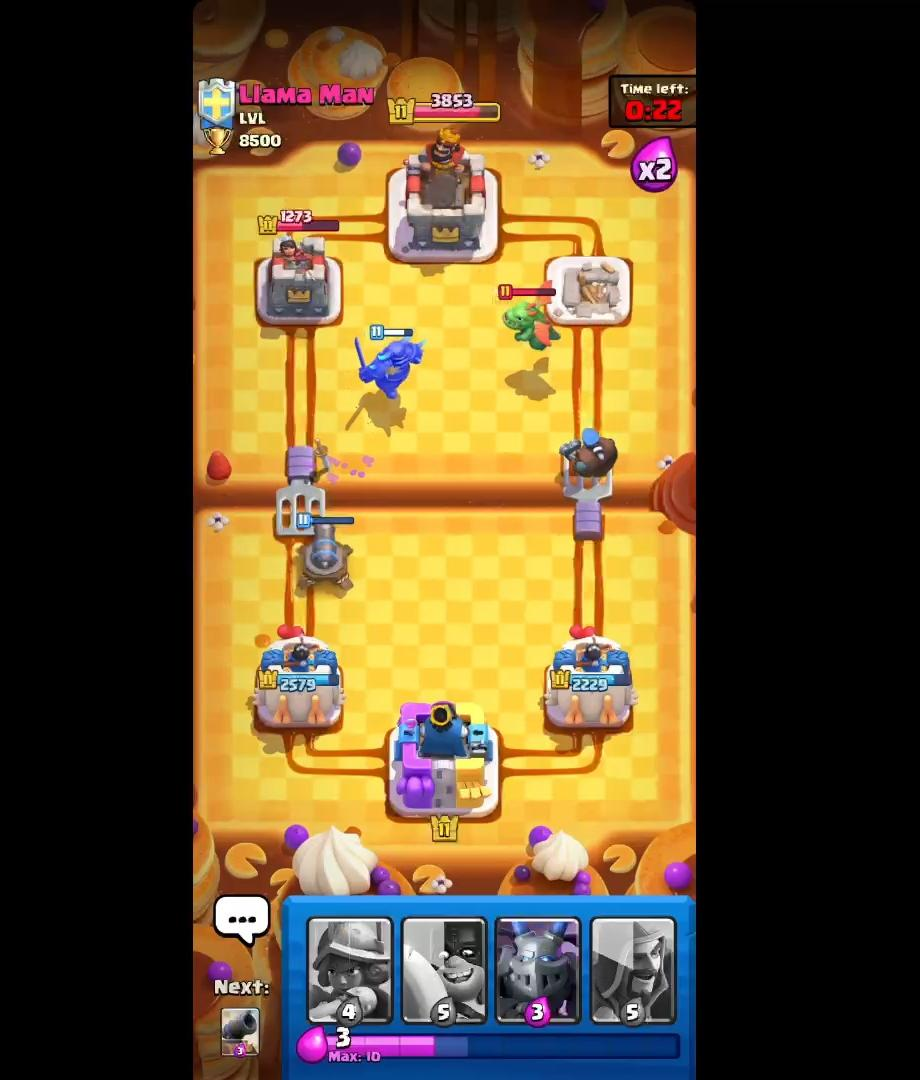Baby Dragon: (494, 275, 564, 360)
